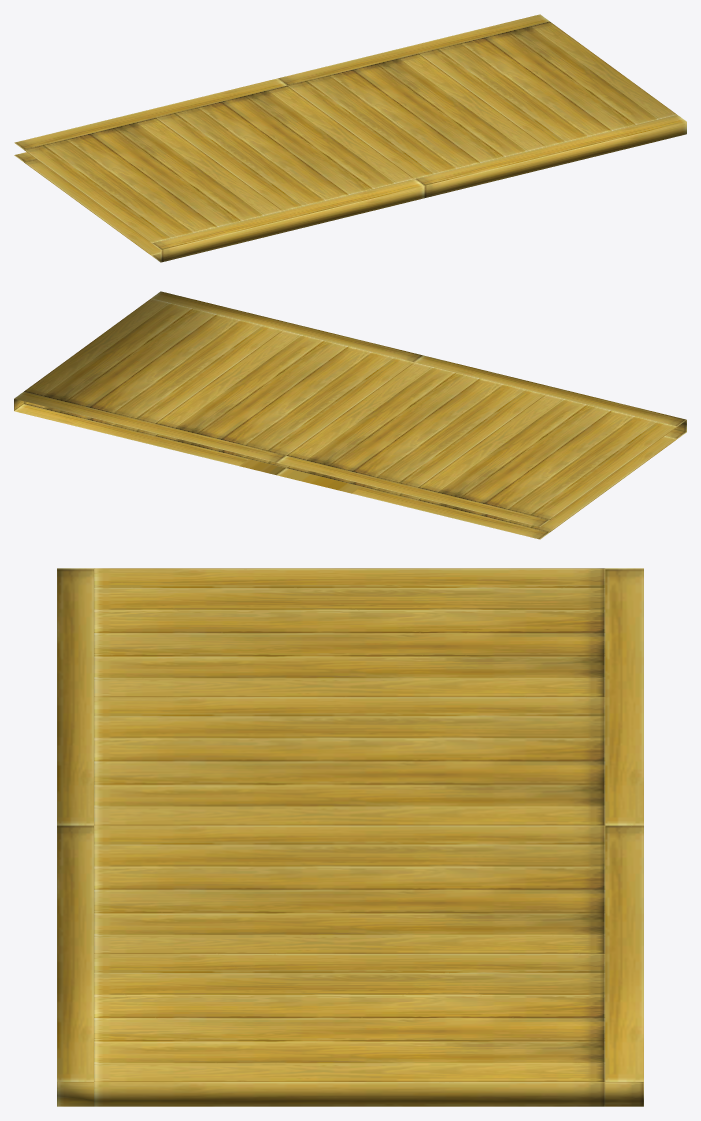
Rendered from HTOWN01_MILLPLATFORM02.fbx.
3 views of the same model, one above another, from view 1: azimuth 30°, elevation 25°; view 2: azimuth 150°, elevation 25°; view 3: azimuth 270°, elevation 25° (orthographic). The views are drawn at different scales.
Parts seen in each view (by area): view 1: HTOWN01_MILLPLATFORM02; view 2: HTOWN01_MILLPLATFORM02; view 3: HTOWN01_MILLPLATFORM02.
Part boxes in pixels (x1,y1,x2,y2): HTOWN01_MILLPLATFORM02: (14,14,686,262); HTOWN01_MILLPLATFORM02: (14,291,686,539); HTOWN01_MILLPLATFORM02: (57,568,643,1106).
Size of the model in its own units: 84006 by 1897 by 40596.
Materials: 1 (1 with a texture image).
